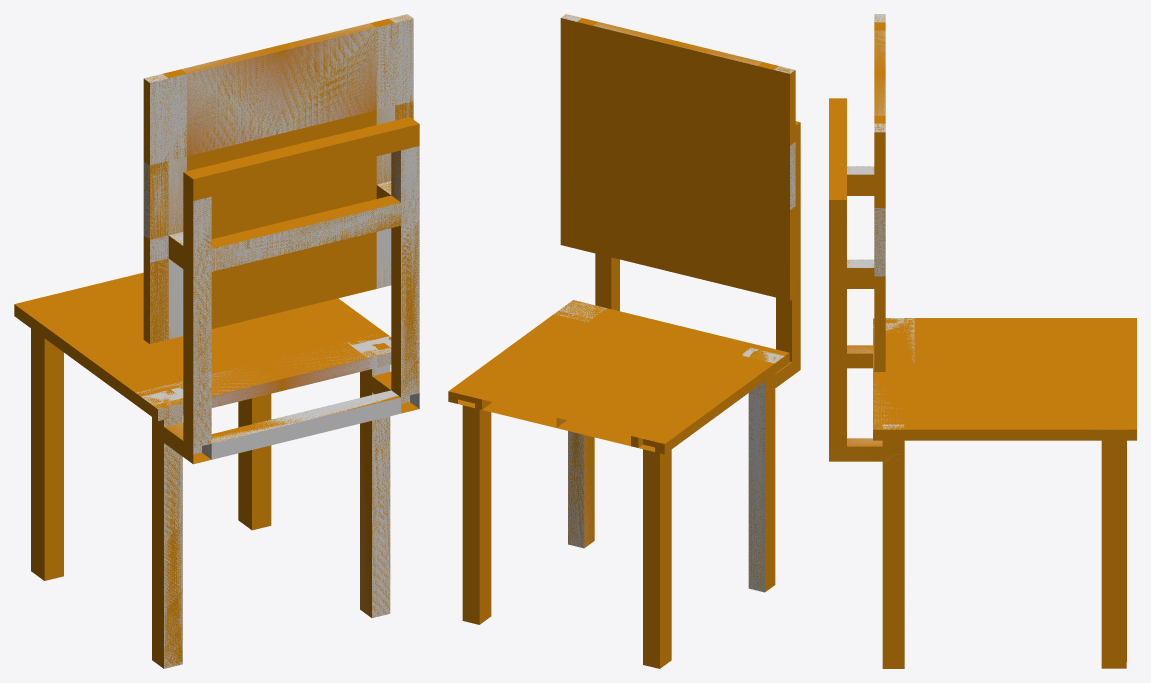
File: chaise 2 couleur.fbx
3 renders of one model, left to right at view 1: azimuth 30°, elevation 25°; view 2: azimuth 150°, elevation 25°; view 3: azimuth 270°, elevation 25°, orthographic. The views are drawn at different scales.
Parts seen in each view (by area): view 1: Cube; view 2: Cube; view 3: Cube.
Part boxes in pixels (x1,y1,x2,y2): Cube: (14,14,419,668); Cube: (448,14,800,668); Cube: (829,14,1136,668).
Bounding box in the file's own units: 2.12 × 4.56 × 2.33.
